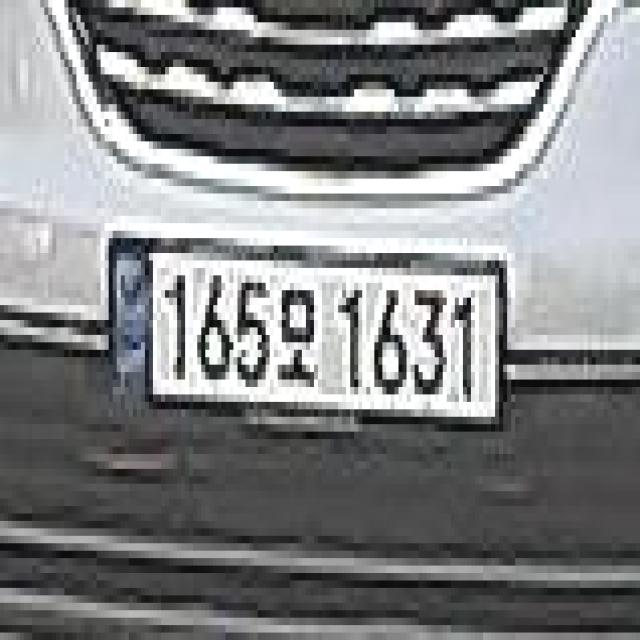illegal_plate: (112, 232, 514, 448)
